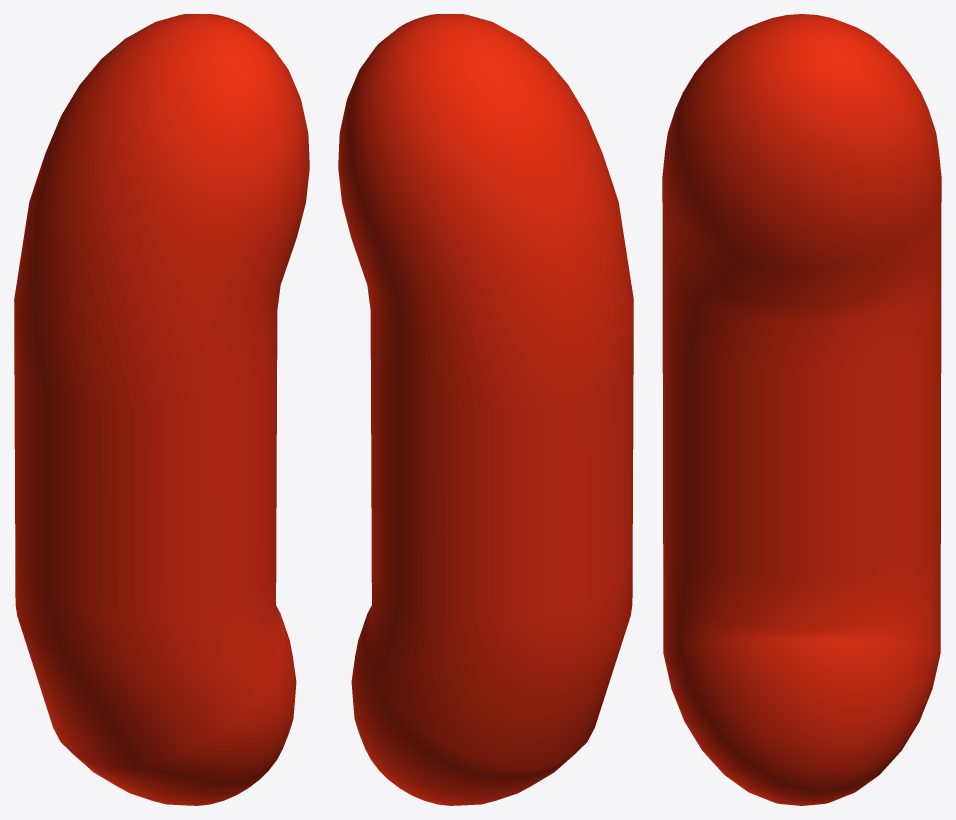
The model's file is FRITO.fbx.
3 renders of one model, left to right at view 1: azimuth 30°, elevation 25°; view 2: azimuth 150°, elevation 25°; view 3: azimuth 270°, elevation 25°, orthographic.
Parts seen in each view (by area): view 1: Esfera; view 2: Esfera; view 3: Esfera.
Boxes of the visible parts, x1,y1,x2,y2 form: Esfera: [14, 14, 309, 805]; Esfera: [338, 14, 633, 805]; Esfera: [662, 14, 941, 805].
Bounding box in the file's own units: 337 × 964 × 314.
